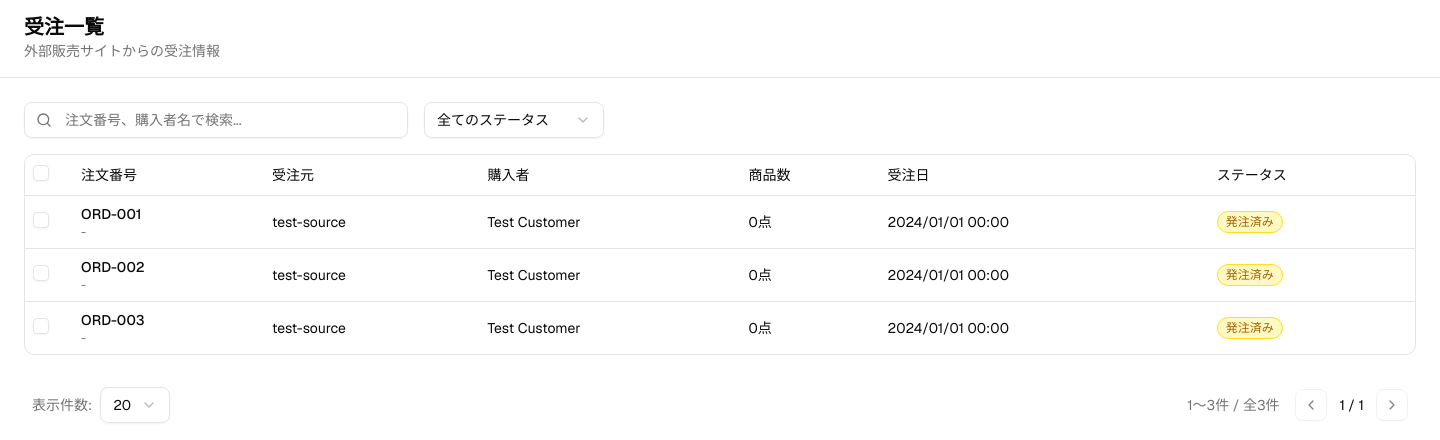
AC-001: Image download button shown when orders selected › shows image download button when multiple orders are selected
What coordinates should you click on to do the following:
click the checkbox named "すべて選択"
I would click on:
 (41, 173)
Its box is [33, 165, 49, 181].
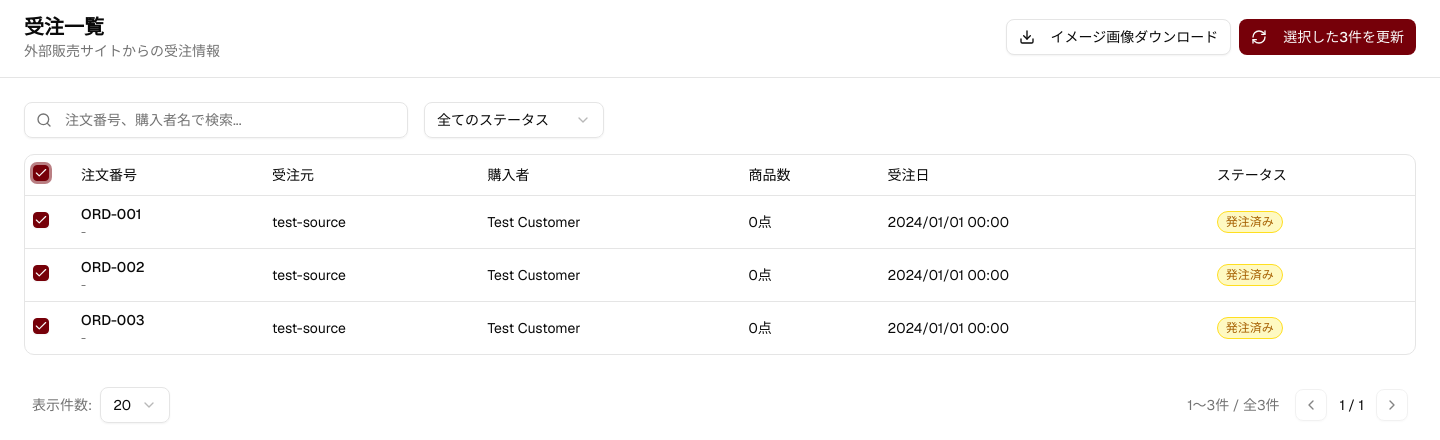
Check: the button "イメージ画像ダウンロード" is shown, box [1006, 19, 1231, 55]
